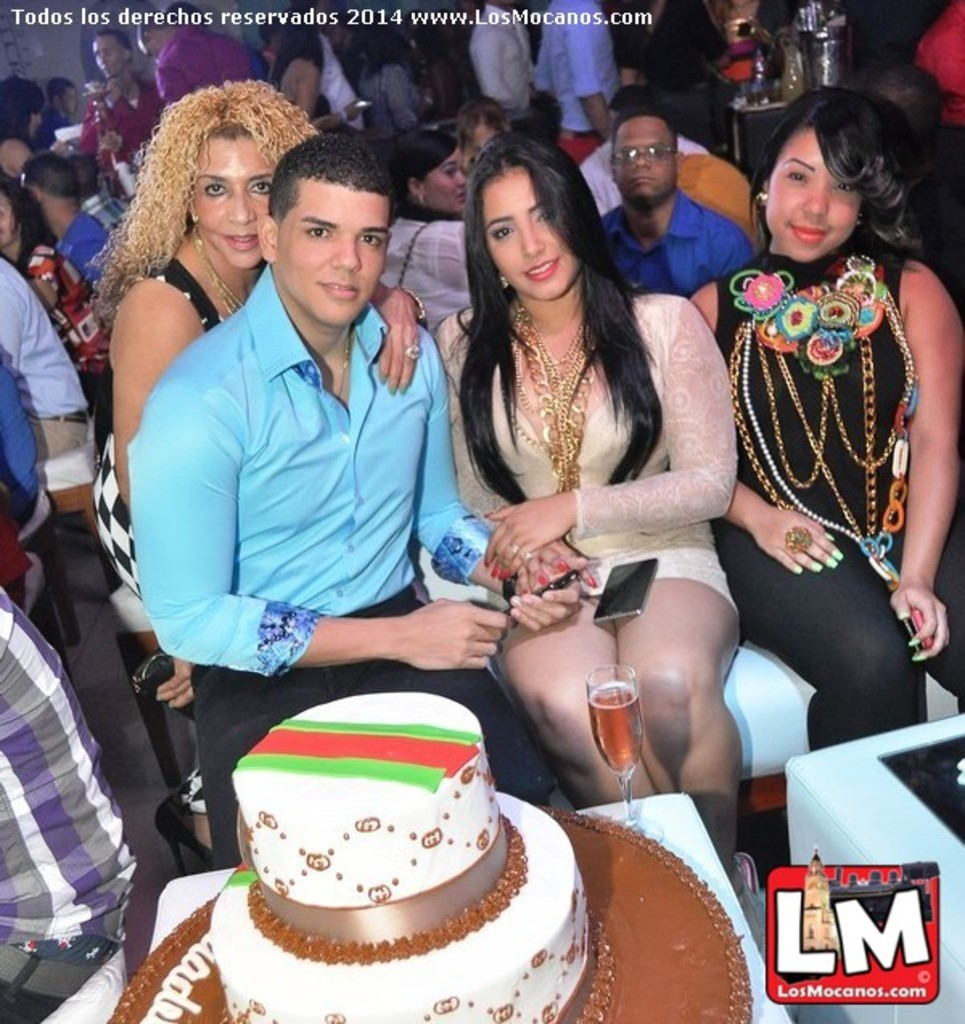cake: (108, 691, 751, 1022)
